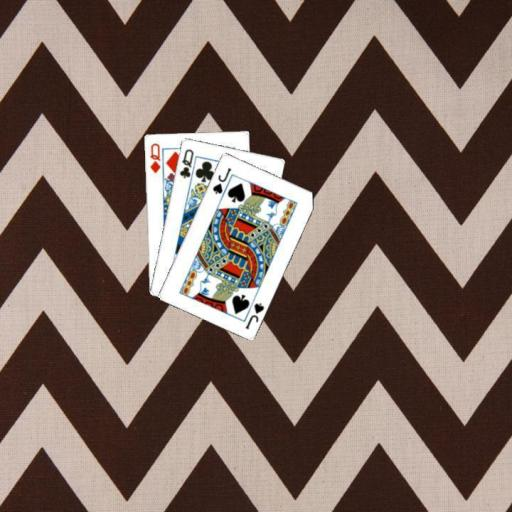card-corner: (209, 164, 233, 196), (242, 299, 265, 331), (176, 146, 195, 180), (147, 140, 162, 174)
